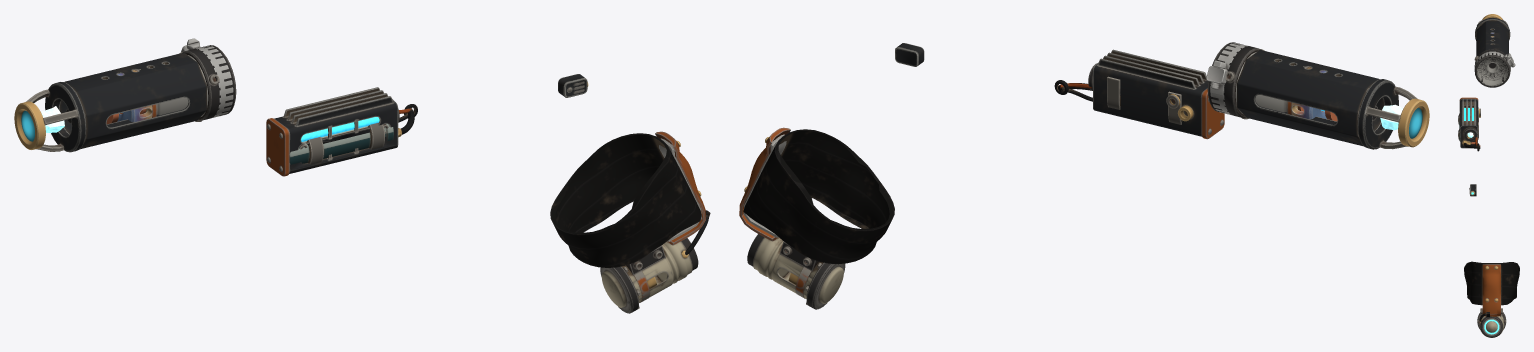
Rendered from PistolMods.glb.
The picture shows the model from 3 angles, left to right: view 1: azimuth 30°, elevation 25°; view 2: azimuth 150°, elevation 25°; view 3: azimuth 270°, elevation 25°; orthographic projection. The views are drawn at different scales.
Parts seen in each view (by area): view 1: grip_stabilised_pistol, barrel_lattice_focused, cell_overclocked, grip_gyro_braced, cell_salvaged_capacitor, barrel_bored_alloy; view 2: grip_stabilised_pistol, barrel_lattice_focused, cell_overclocked, grip_gyro_braced, barrel_bored_alloy, cell_salvaged_capacitor; view 3: grip_stabilised_pistol, barrel_lattice_focused, cell_overclocked, barrel_bored_alloy, grip_gyro_braced, cell_salvaged_capacitor.
Boxes of the visible parts, x1,y1,x2,y2 form: grip_stabilised_pistol: (550,131,706,267); barrel_lattice_focused: (14,45,236,152); cell_overclocked: (266,87,417,176); grip_gyro_braced: (558,74,710,313); cell_salvaged_capacitor: (289,108,411,164); barrel_bored_alloy: (117,38,233,122); grip_stabilised_pistol: (739,127,894,264); barrel_lattice_focused: (1207,42,1429,149); cell_overclocked: (1054,49,1224,139); grip_gyro_braced: (743,43,924,309); barrel_bored_alloy: (1206,43,1326,119); cell_salvaged_capacitor: (1059,76,1182,124); grip_stabilised_pistol: (1464,261,1519,316); barrel_lattice_focused: (1474,14,1510,87); cell_overclocked: (1459,97,1480,151); barrel_bored_alloy: (1474,32,1515,86); grip_gyro_braced: (1469,184,1506,337); cell_salvaged_capacitor: (1458,107,1480,149).
Size of the model in its own units: 2.63 by 1.34 by 0.414.
2 materials, 2 textured.
